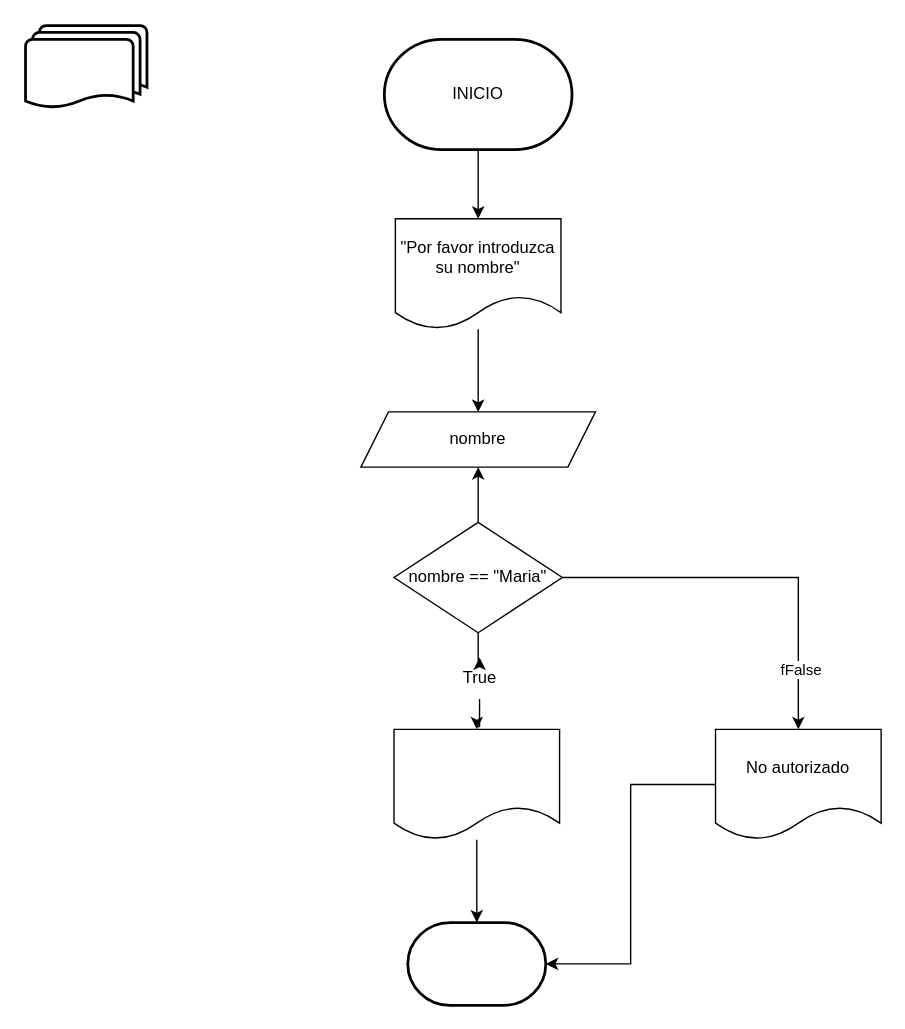
The diagram is 905 pixels wide and 1029 high, and some of its shapes have lost their labels. Here are the shapes that lost their labels. From the top down, the box of each, then its label:
(393, 728, 560, 840): AUTORIZADO PASA
(406, 920, 546, 1006): FIN
